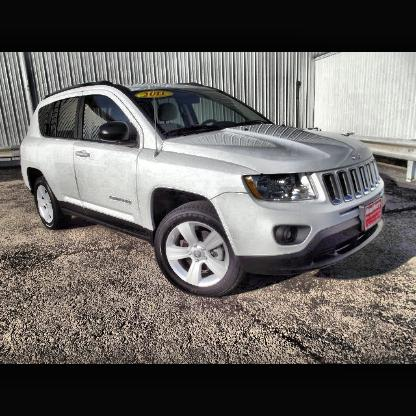Jeep Compass SUV 2012: (22, 81, 391, 300)
